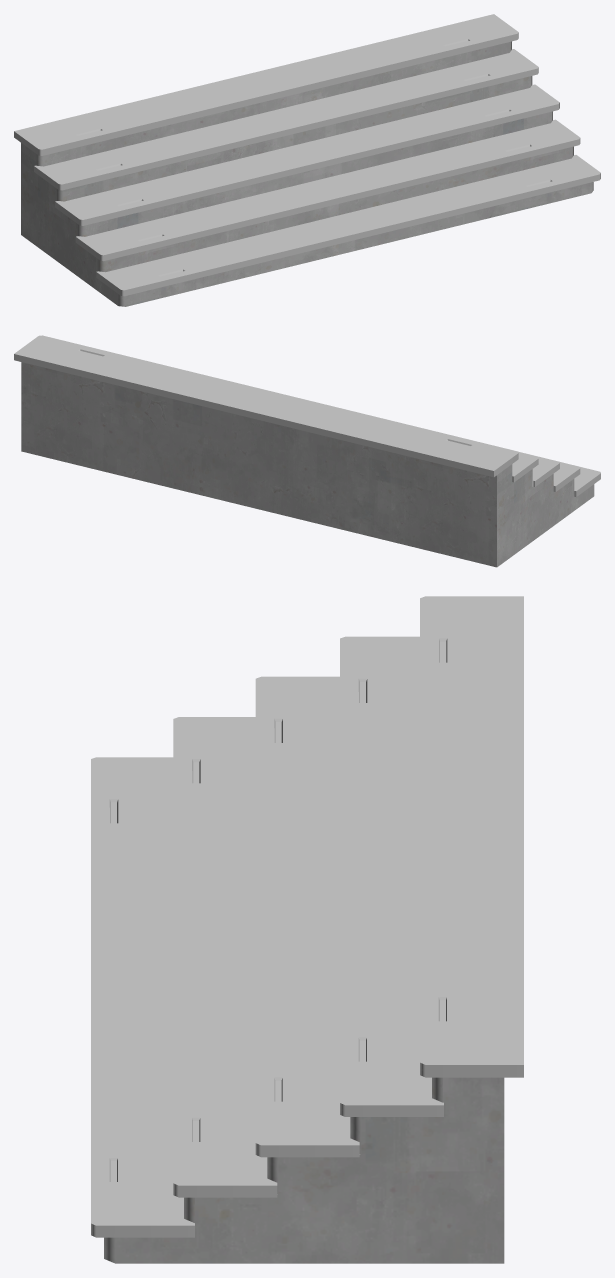
Rendered from SM_Cit_Sta_03AS.fbx.
3 views of the same model, one above another, from view 1: azimuth 30°, elevation 25°; view 2: azimuth 150°, elevation 25°; view 3: azimuth 270°, elevation 25° (orthographic). The views are drawn at different scales.
Visible parts, largest first — view 1: SM_Cit_Sta_03AS.mo; view 2: SM_Cit_Sta_03AS.mo; view 3: SM_Cit_Sta_03AS.mo.
Part boxes in pixels (<box>): SM_Cit_Sta_03AS.mo: <box>14,14,600,306</box>; SM_Cit_Sta_03AS.mo: <box>14,335,600,567</box>; SM_Cit_Sta_03AS.mo: <box>91,596,523,1263</box>.
Bounding box in the file's own units: 5 × 1 × 1.95.
